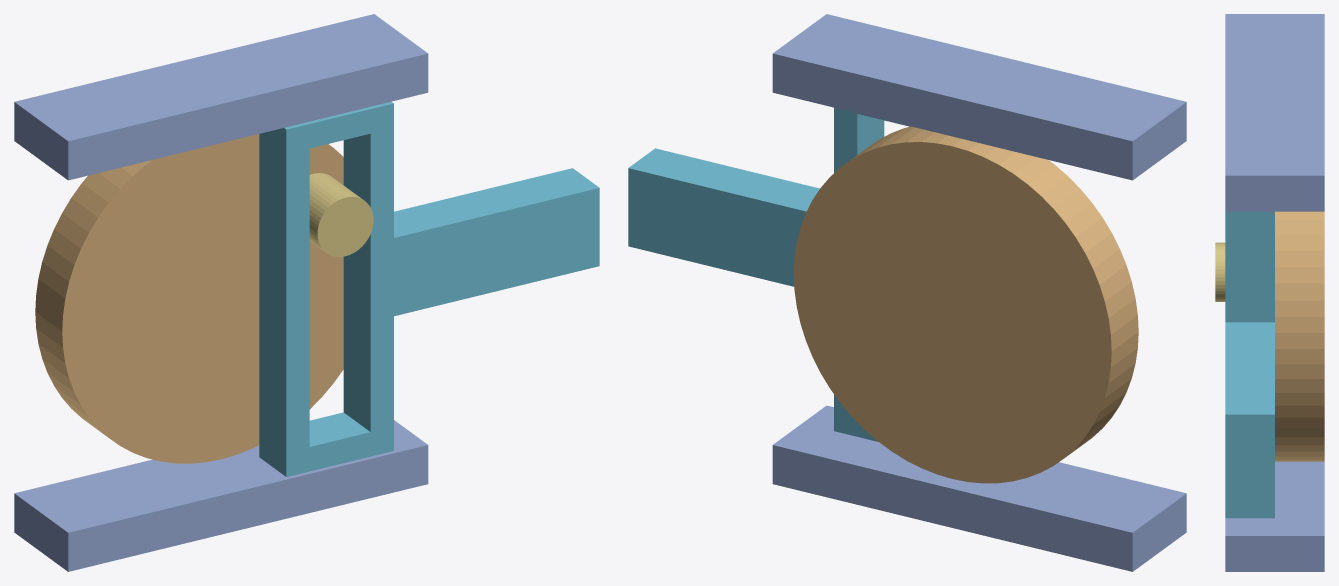
The model's file is scotch_yoke_demo.glb.
3 renders of one model, left to right at view 1: azimuth 30°, elevation 25°; view 2: azimuth 150°, elevation 25°; view 3: azimuth 270°, elevation 25°, orthographic. The views are drawn at different scales.
Parts seen in each view (by area): view 1: crank_disc, slotted_yoke, rail_a, rail_b, crank_pin; view 2: crank_disc, rail_a, rail_b, slotted_yoke; view 3: rail_a, slotted_yoke, crank_disc, rail_b, crank_pin.
Part boxes in pixels (left/top/right/bottom): crank_disc: left=35, top=134, right=343, bottom=463; slotted_yoke: left=259, top=101, right=599, bottom=476; rail_a: left=14, top=14, right=428, bottom=180; rail_b: left=14, top=420, right=428, bottom=571; crank_pin: left=309, top=173, right=373, bottom=256; crank_disc: left=793, top=126, right=1138, bottom=483; rail_a: left=772, top=14, right=1186, bottom=180; rail_b: left=772, top=405, right=1186, bottom=571; slotted_yoke: left=628, top=107, right=910, bottom=441; rail_a: left=1225, top=14, right=1324, bottom=211; slotted_yoke: left=1225, top=211, right=1274, bottom=518; crank_disc: left=1275, top=211, right=1324, bottom=461; rail_b: left=1225, top=461, right=1324, bottom=571; crank_pin: left=1215, top=242, right=1225, bottom=301.
Bounding box in the file's own units: 56.83 × 44 × 11.
